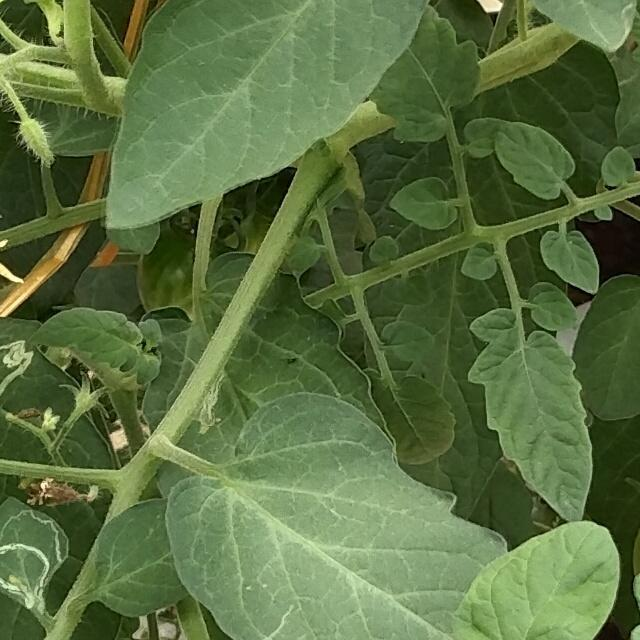Healthy: (161, 390, 508, 640), (101, 0, 434, 234), (465, 306, 599, 525), (444, 518, 623, 640), (491, 118, 578, 204), (540, 225, 604, 299)
Leaf_Miner: (0, 490, 75, 615), (0, 334, 36, 405)
